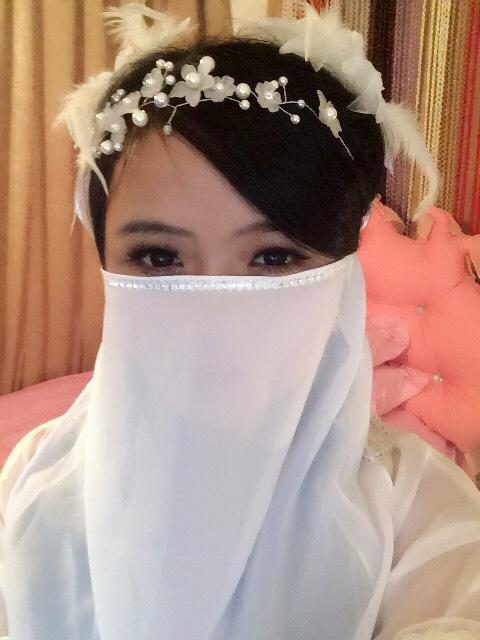OK: (106, 208, 312, 414)
